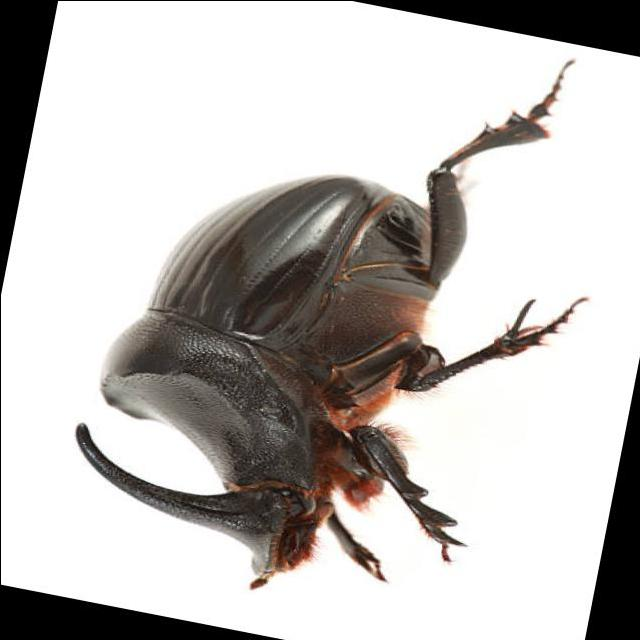Rhino-beetle: (61, 85, 601, 593)
